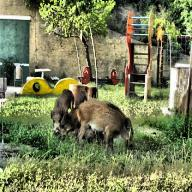boar: (71, 98, 137, 157), (43, 86, 74, 141)
